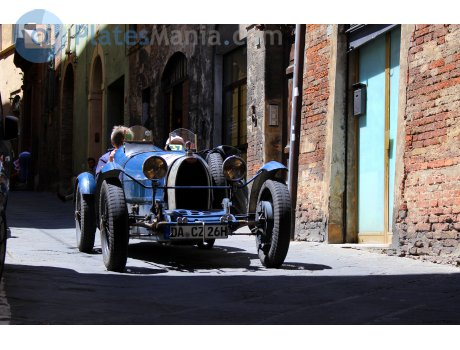License Plates: (171, 222, 228, 240)
